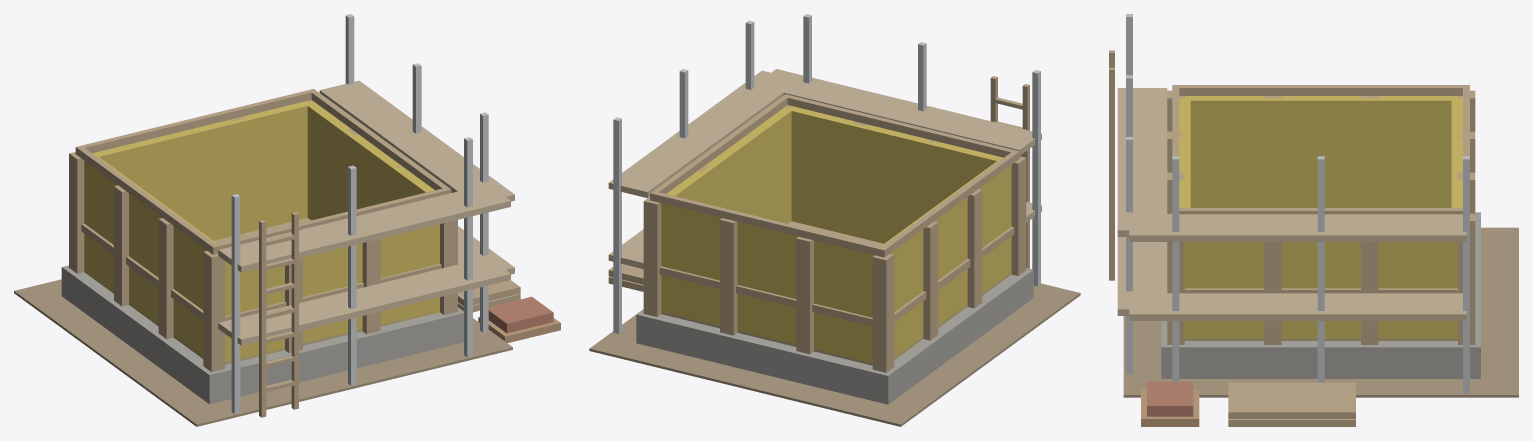
File: beehive_site_8.glb
3 renders of one model, left to right at view 1: azimuth 30°, elevation 25°; view 2: azimuth 150°, elevation 25°; view 3: azimuth 270°, elevation 25°, orthographic. The views are drawn at different scales.
Parts seen in each view (by area): view 1: body; view 2: body; view 3: body.
Part boxes in pixels (<box>): body: <box>14,14,560,426</box>; body: <box>589,14,1080,426</box>; body: <box>1109,14,1518,426</box>.
Size of the model in its own units: 1.6 by 0.9 by 1.41.
